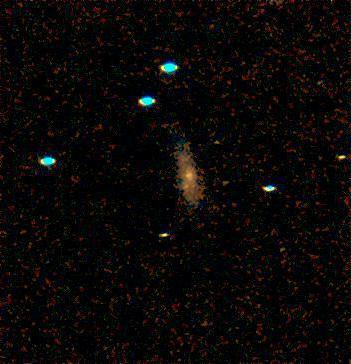star: (154, 218, 184, 248)
